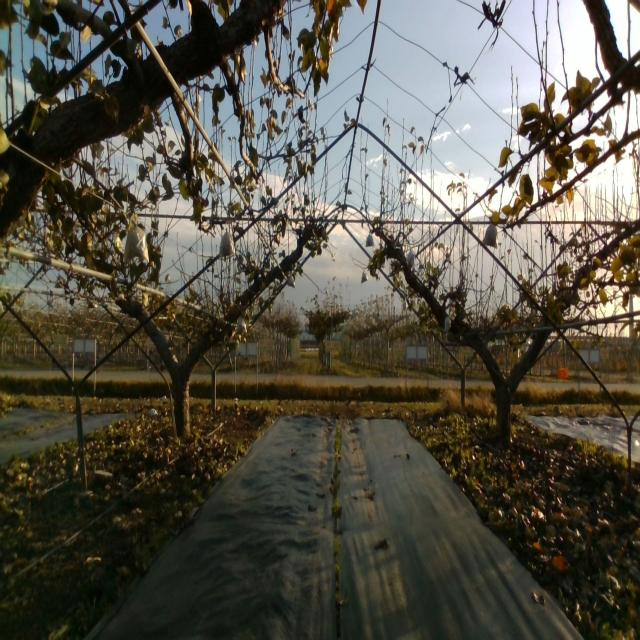pearbags: (122, 215, 149, 263), (220, 228, 237, 256), (482, 224, 498, 248)
